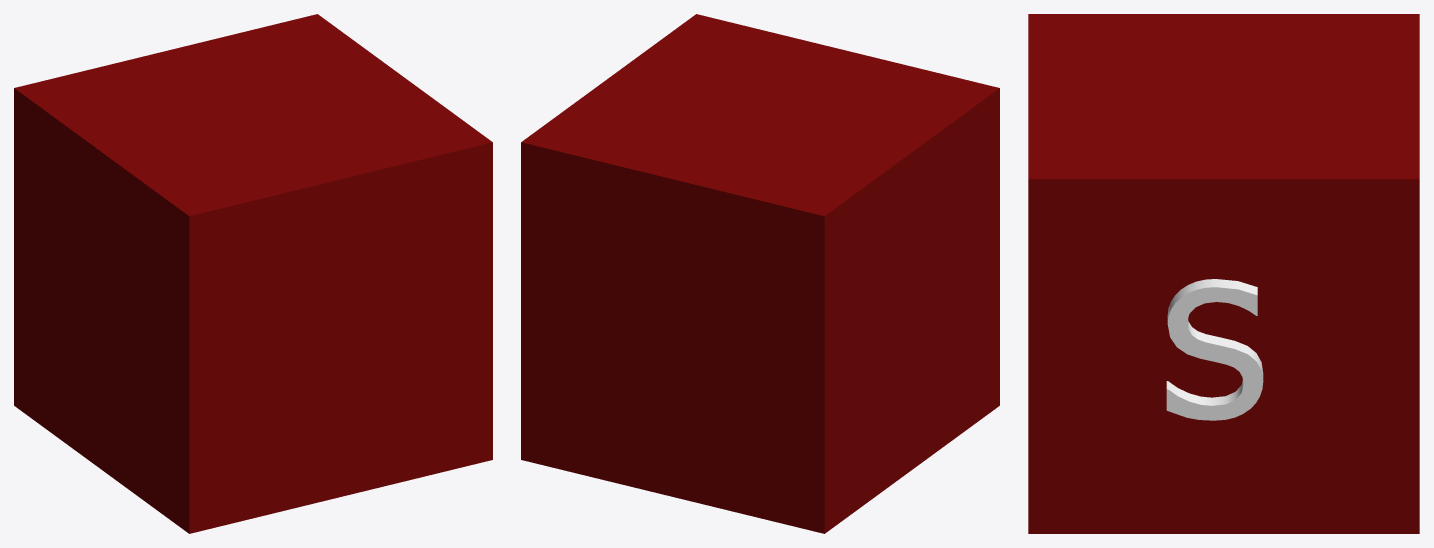
The picture shows the model from 3 angles, left to right: view 1: azimuth 30°, elevation 25°; view 2: azimuth 150°, elevation 25°; view 3: azimuth 270°, elevation 25°; orthographic projection. The views are drawn at different scales.
Visible parts, largest first — view 1: SketchUp; view 2: SketchUp; view 3: SketchUp, S.
Part boxes in pixels (box(x1,y1,x2,y2)): SketchUp: box(14, 14, 492, 533); SketchUp: box(521, 14, 999, 533); SketchUp: box(1028, 14, 1419, 533); S: box(1166, 279, 1263, 420).
Size of the model in its own units: 21 by 20 by 20.
